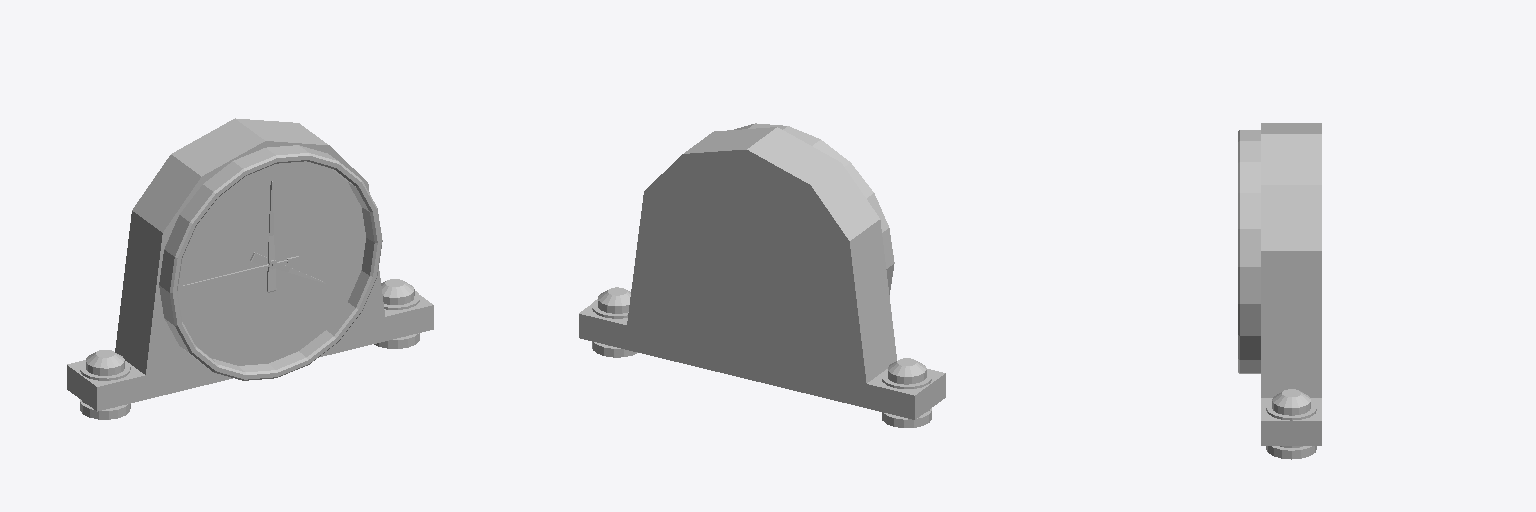
The model's file is Analog Clock2.obj.
3 views of the same model, side by side, from view 1: azimuth 30°, elevation 25°; view 2: azimuth 150°, elevation 25°; view 3: azimuth 270°, elevation 25° (orthographic).
Visible parts, largest first — view 1: Analog_Clock_Second_hand; view 2: Analog_Clock_Second_hand; view 3: Analog_Clock_Second_hand.
Boxes of the visible parts, box(x1,y1,x2,y2) form: Analog_Clock_Second_hand: box(67, 118, 433, 419); Analog_Clock_Second_hand: box(579, 123, 945, 427); Analog_Clock_Second_hand: box(1238, 123, 1321, 459).
Bounding box in the file's own units: 1580 × 1095 × 345.